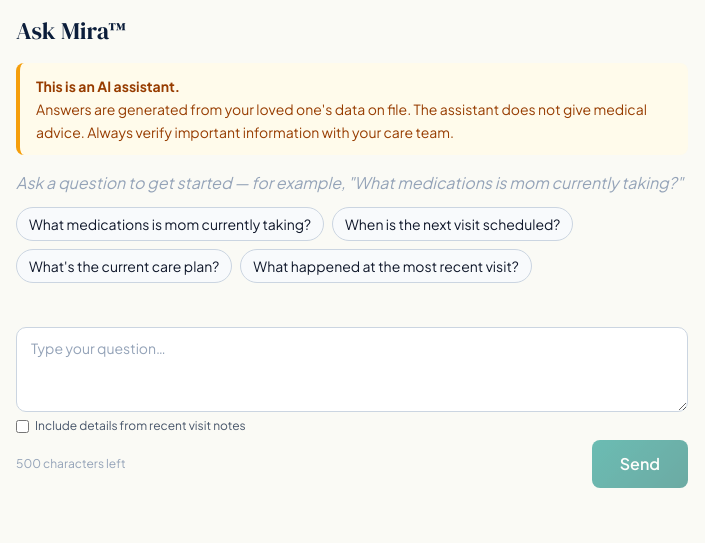
FamilyChat (streaming) › hides the suggested prompts after the first turn lands
The image size is (705, 543).
Expected: the element with test id "suggested-prompts" is shown, x1=16 y1=207 x2=573 y2=283
Click the button with test id "suggested-prompt" at x=170, y=224, box x1=16 y1=207 x2=324 y2=241
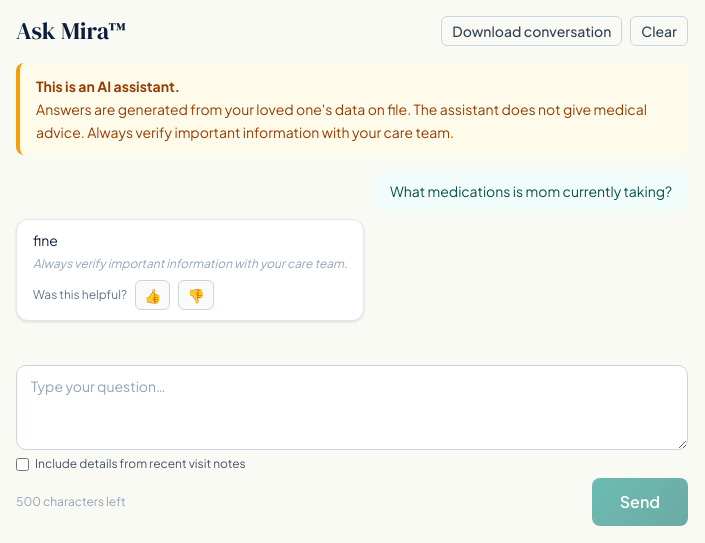
Expected: the element with test id "suggested-prompts" is gone
